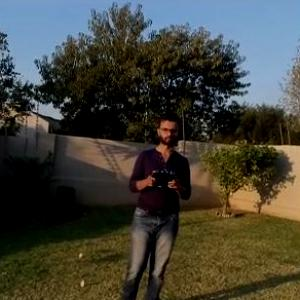follow: (117, 107, 197, 299)
